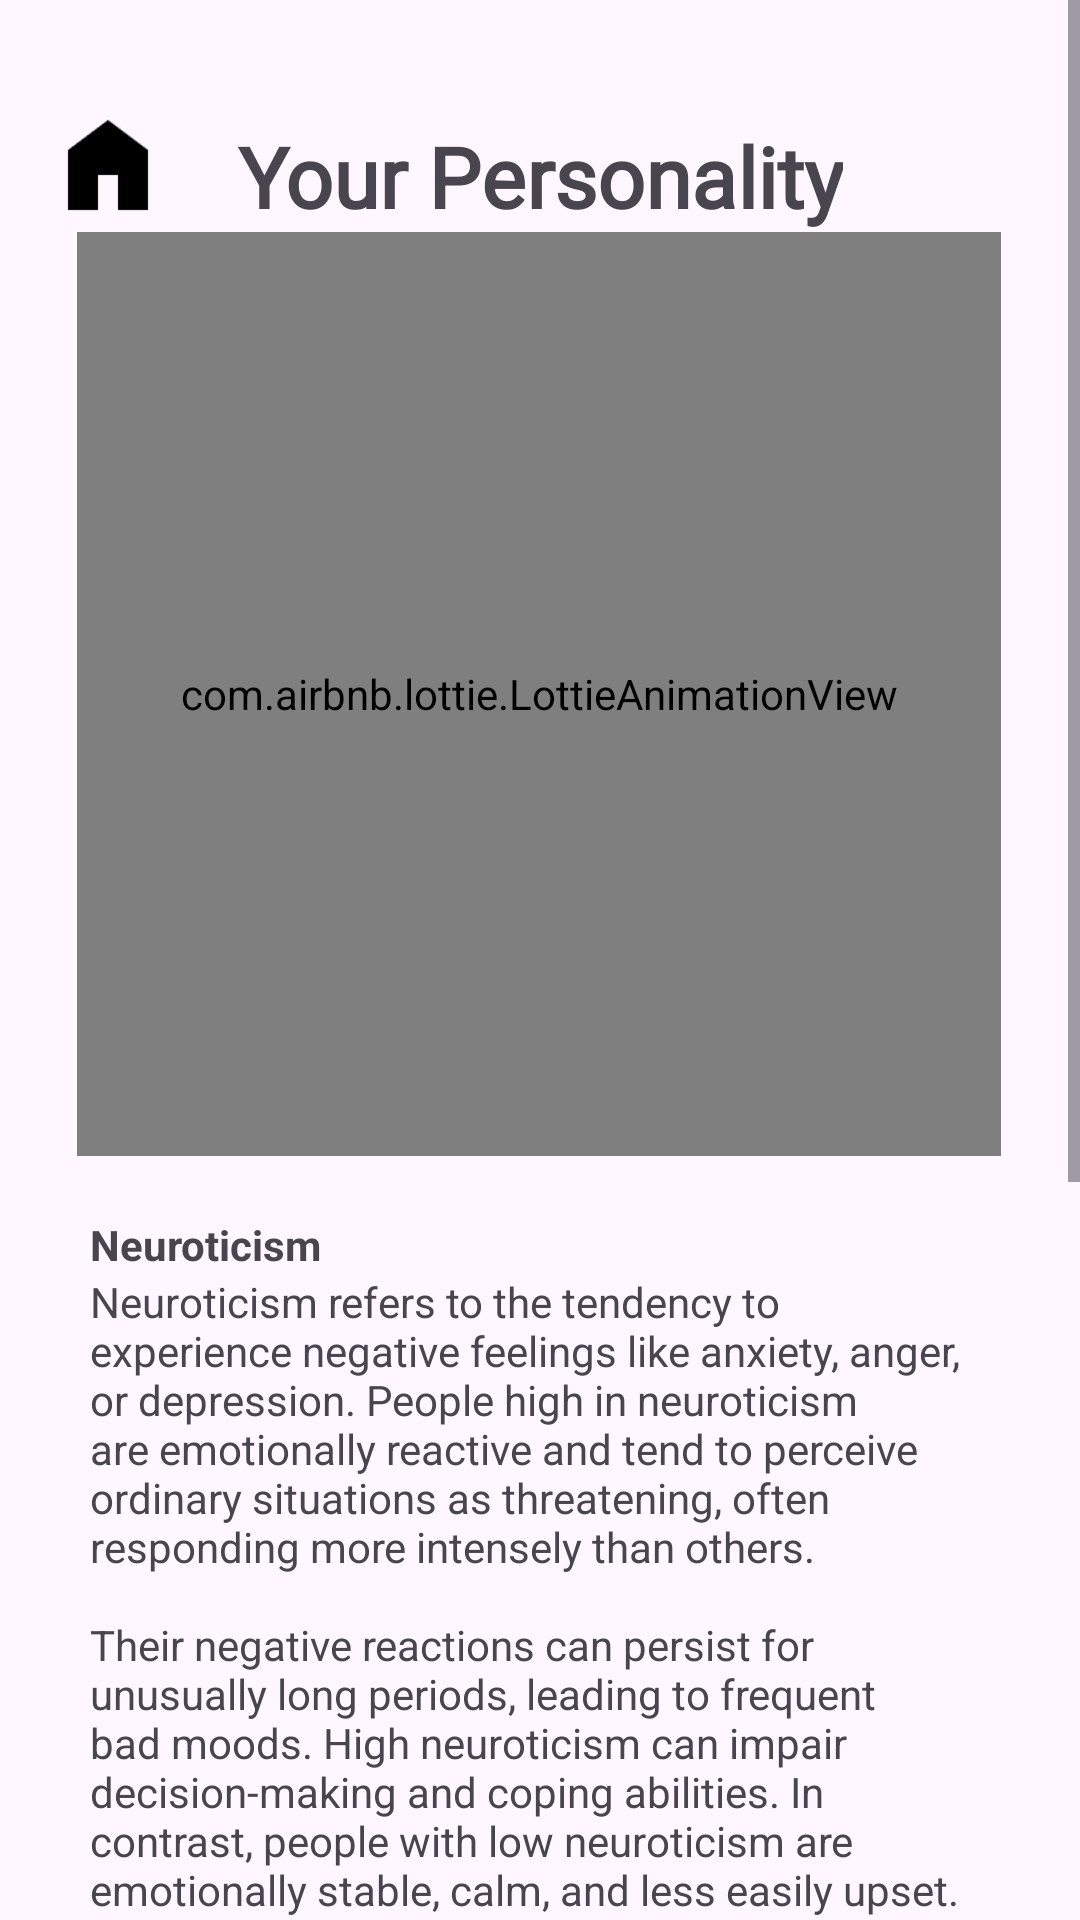

Icons on this 1080 x 1920 Android screen, each with its box as box=[x1, y1, x2, y2]:
homeicon: box=[67, 120, 149, 211]
